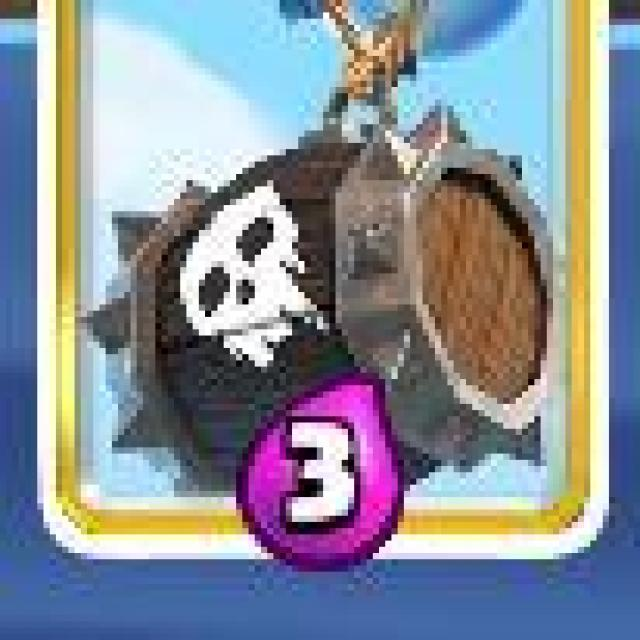Skeleton_Barrel: (35, 0, 608, 560)
